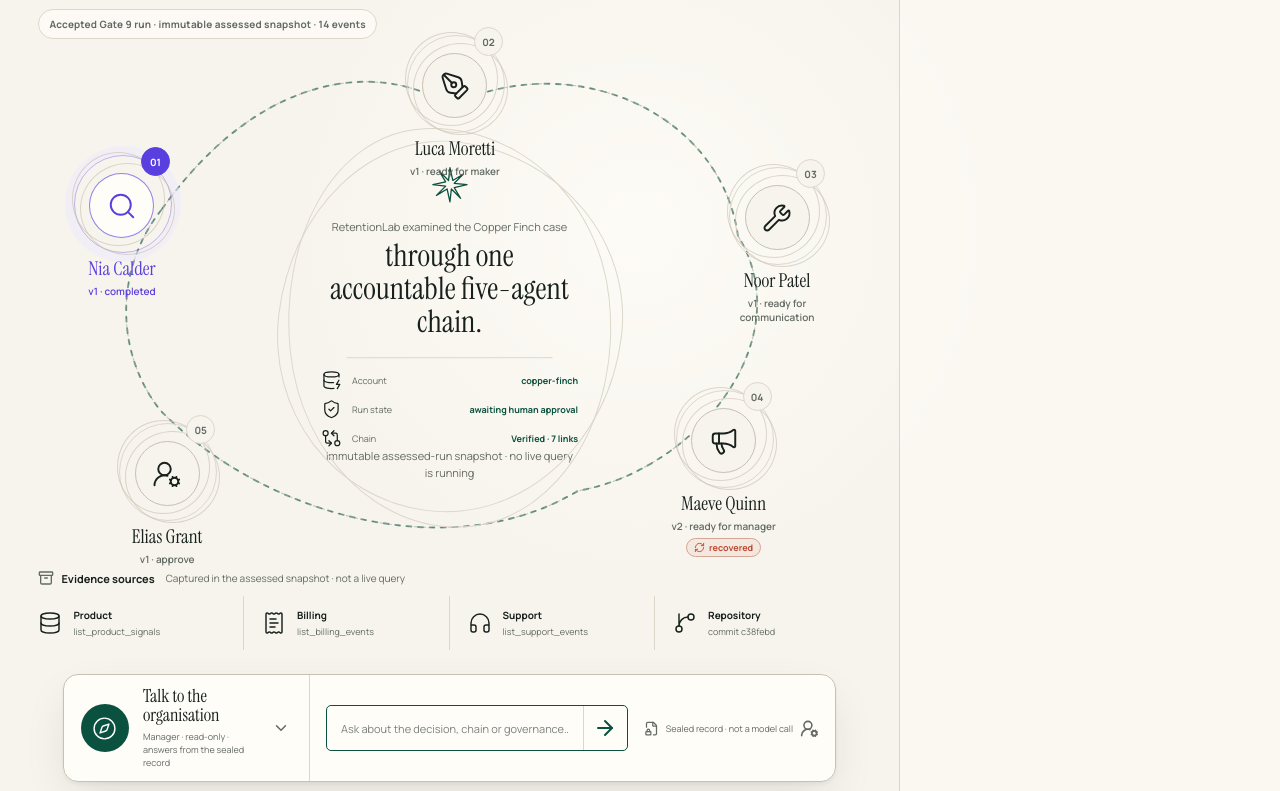
Test case: OrganisationView — assessed Gate 9 run › surfaces the sealed governance facts prominently on the Manager
Step 1. Click the button "05 Elias Grant v1 · approve" → point(167, 490), box x1=104 y1=415 x2=230 y2=566
(page scrolled)
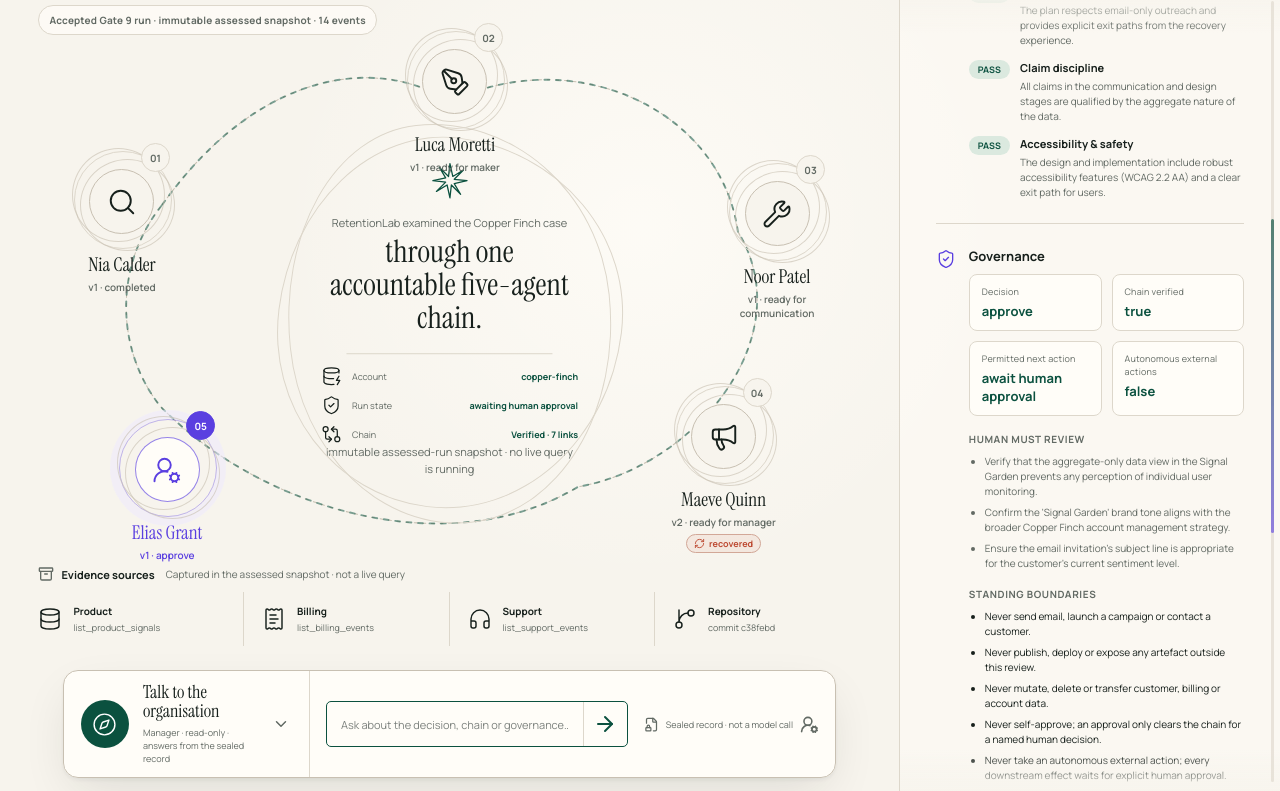
Result: the text "approve" is shown at x1=982 y1=302 x2=1033 y2=320
Result: the text "true" is shown at x1=1124 y1=302 x2=1151 y2=320
Result: the text "await human approval" is shown at x1=982 y1=369 x2=1062 y2=405
